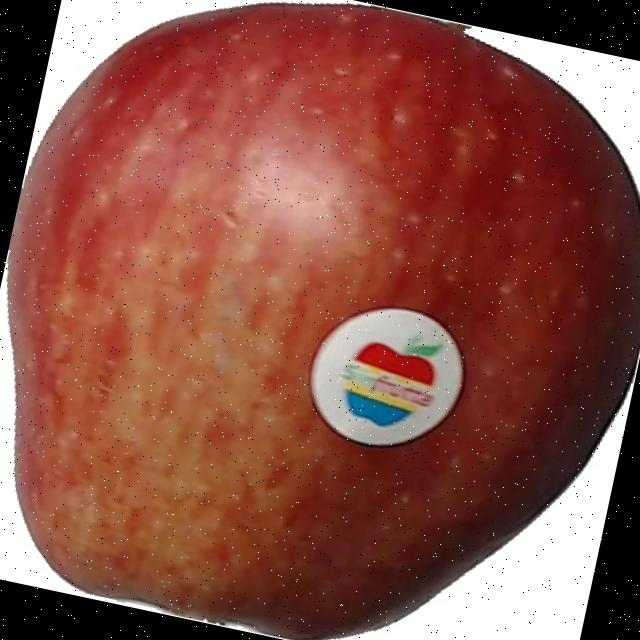apple: (4, 0, 640, 640)
